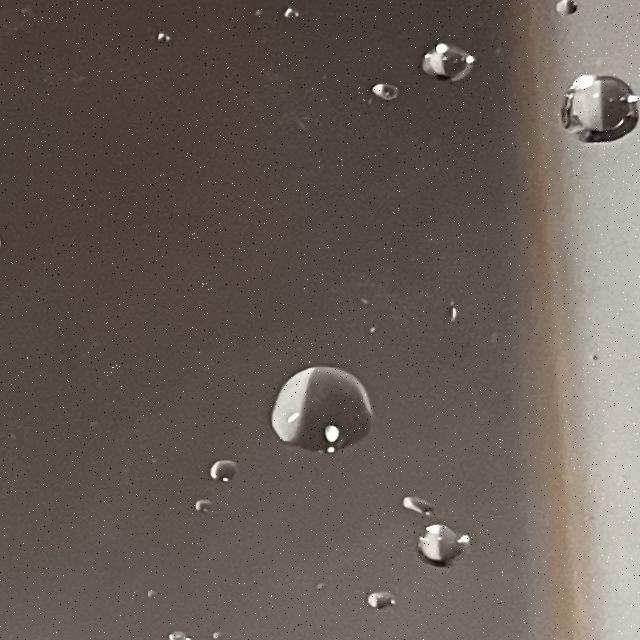raindrop: (258, 358, 375, 474), (551, 74, 639, 152), (417, 30, 489, 97), (420, 524, 479, 582), (364, 61, 412, 120), (348, 572, 406, 616), (381, 482, 436, 526), (211, 455, 254, 507), (182, 485, 220, 520)
